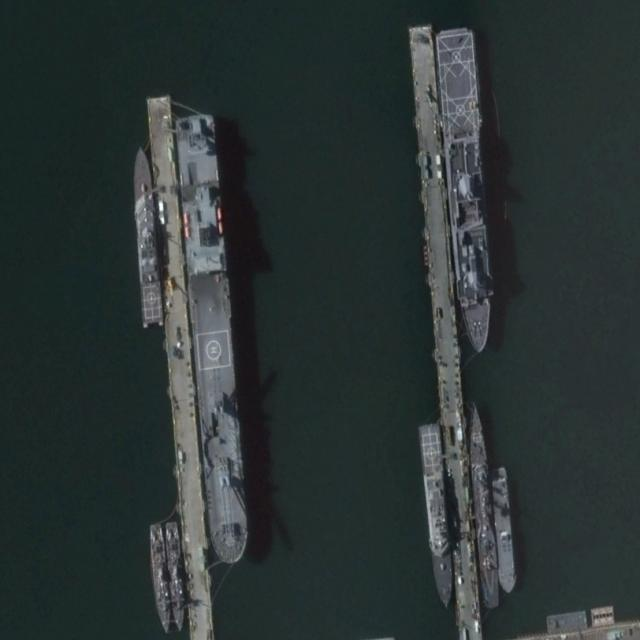Auxiliary Ships: (434, 24, 498, 356)
Frigate: (465, 401, 500, 611)
Other Ship: (172, 110, 253, 567), (417, 420, 457, 611), (131, 145, 165, 330), (488, 465, 516, 596), (147, 521, 173, 634), (164, 521, 187, 632)
